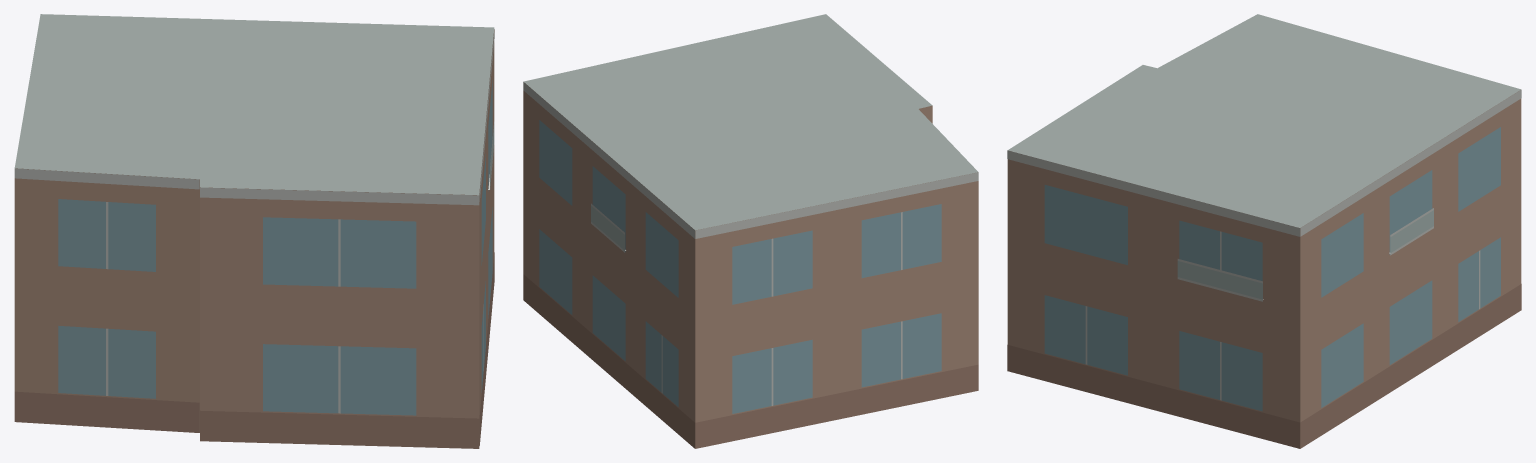
Rendered from survey-upis-32982272.glb.
3 renders of one model, left to right at view 1: azimuth 30°, elevation 25°; view 2: azimuth 150°, elevation 25°; view 3: azimuth 270°, elevation 25°, orthographic. The views are drawn at different scales.
Parts seen in each view (by area): view 1: survey-upis-32982272.tmp; view 2: survey-upis-32982272.tmp; view 3: survey-upis-32982272.tmp.
Boxes of the visible parts, left/top/right/bottom form: survey-upis-32982272.tmp: left=14, top=14, right=494, bottom=448; survey-upis-32982272.tmp: left=523, top=14, right=978, bottom=448; survey-upis-32982272.tmp: left=1007, top=14, right=1521, bottom=448.
Bounding box in the file's own units: 12.7 × 6.1 × 12.88.
